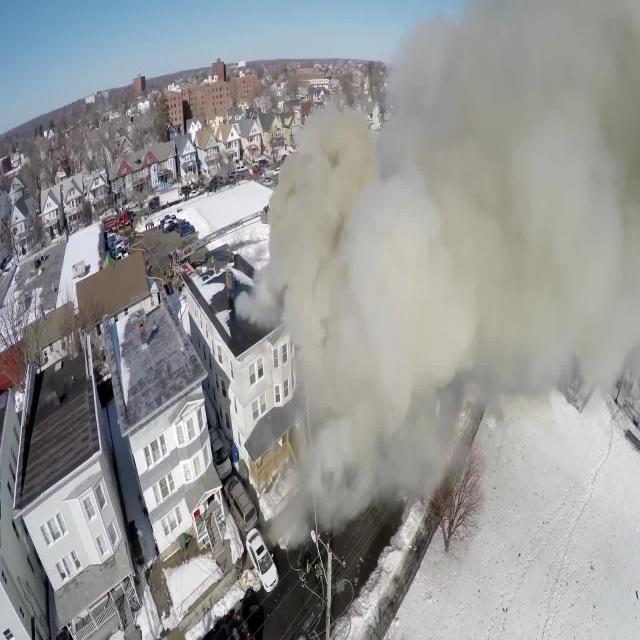Smoke: (242, 0, 640, 558)
